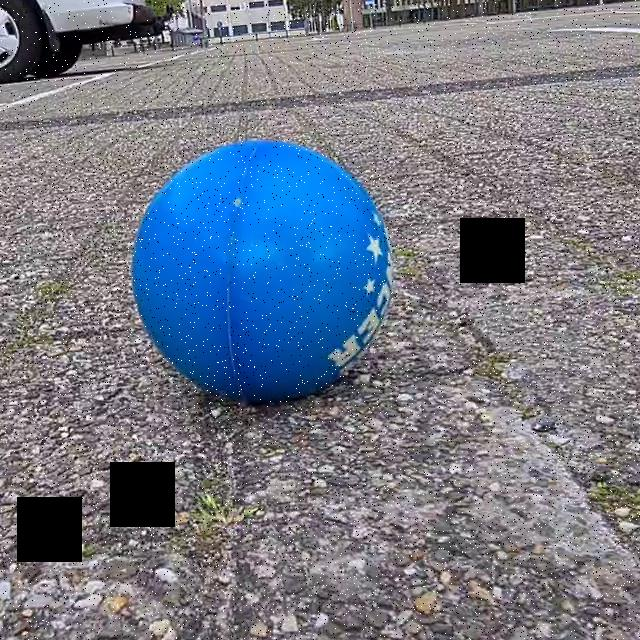ball: (132, 135, 396, 405)
